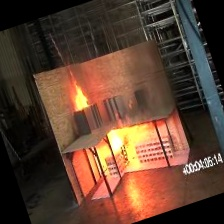fire: (90, 108, 161, 169), (51, 59, 107, 124)
